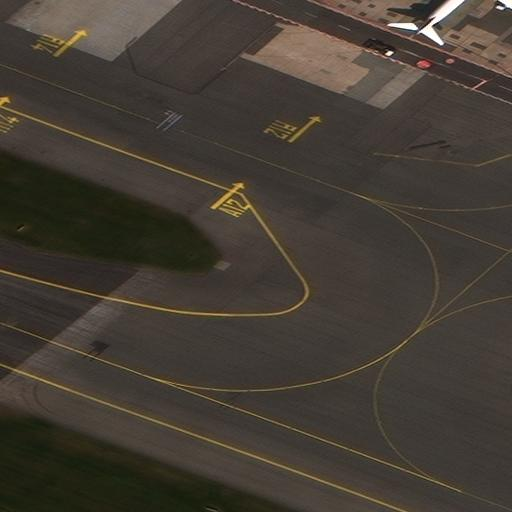Medium Civil Transport: (408, 0, 512, 35)
